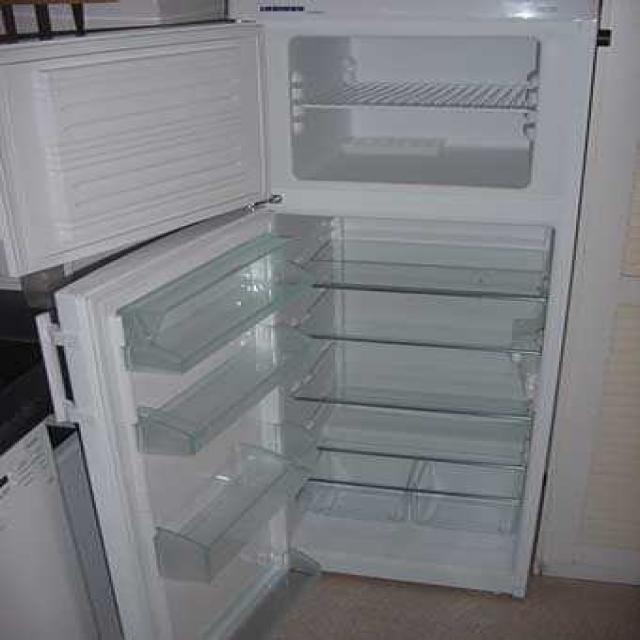refrigerator: (113, 0, 602, 615)
